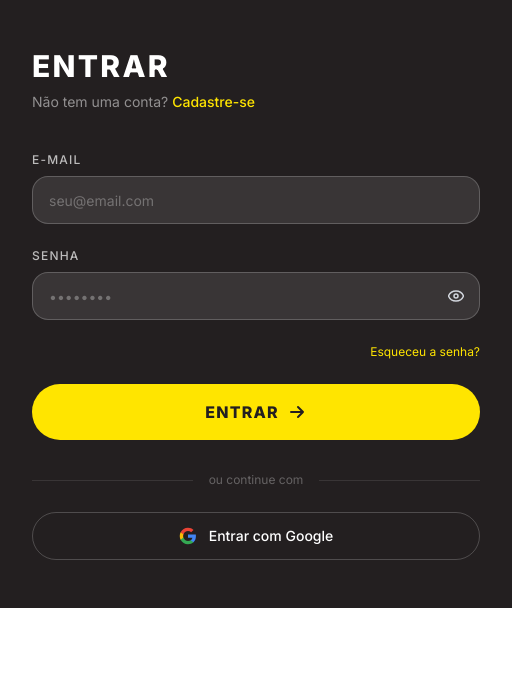
Test: AuthLoginForm › não tenta retomar candidatura quando o erro já tem tratamento próprio
Type "pendente@empresa.test" into the field labelled "E-mail" at [256, 200], box [32,176,480,224]
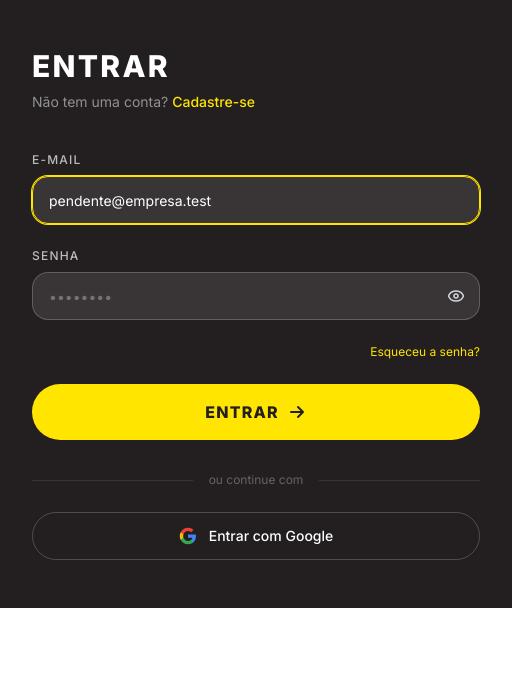
Type "senha-correta" into the password field labelled "Senha" at [256, 296], box [32,272,480,320]
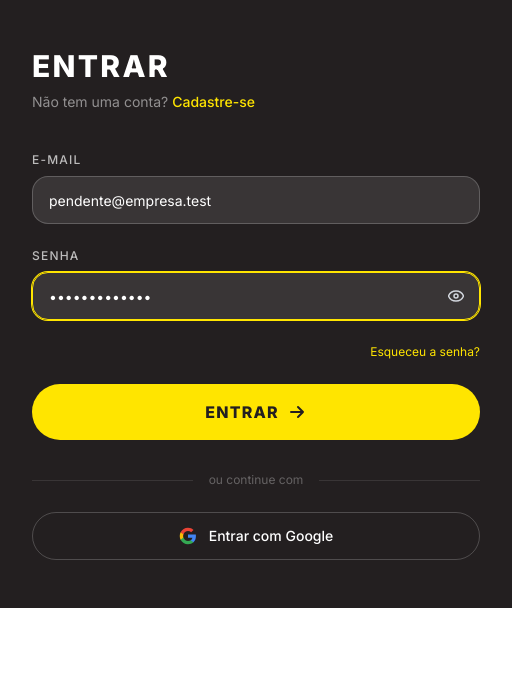
Click the button "Entrar" at [256, 412], box [32,384,480,440]
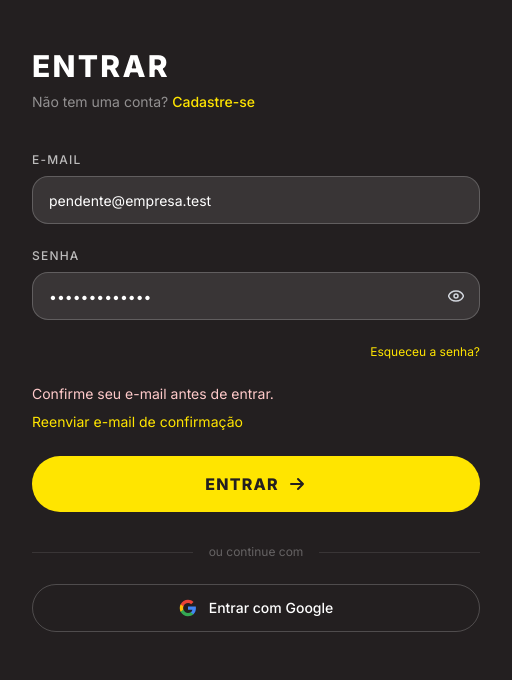
Expected: the text "Confirme seu e-mail antes de entrar." is shown, [32,385,274,402]
